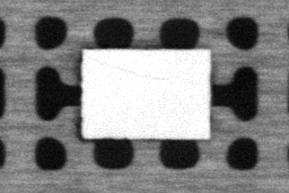DIE_CRACK: (86, 55, 172, 82)
